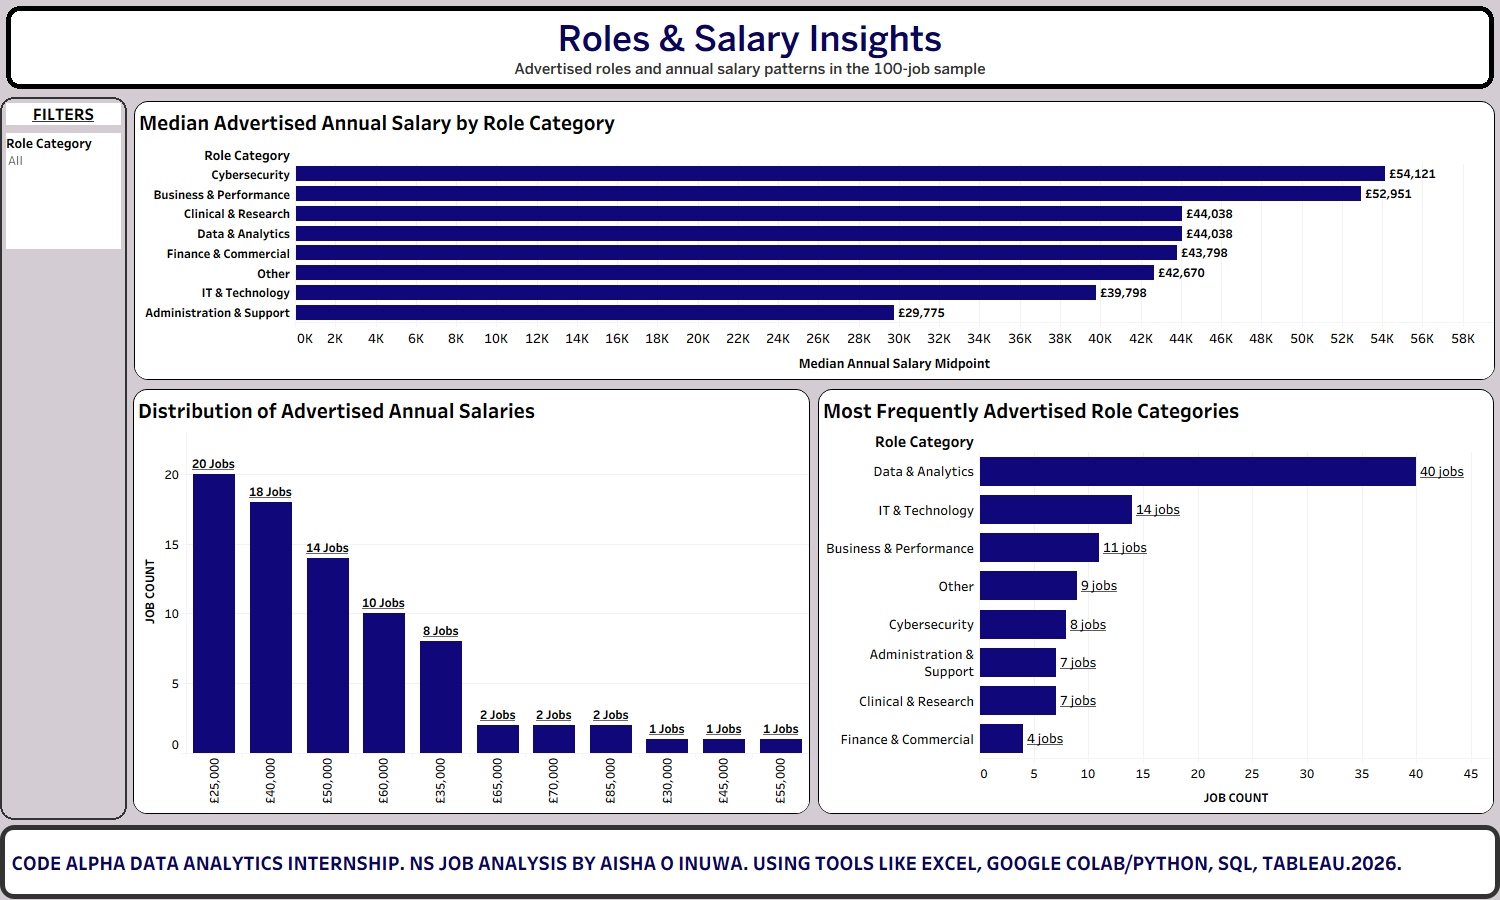

The page's visual inventory and layout, read from the dashboard file:
{"tool":"tableau","page":{"name":"02 - Roles & Salary Insights","canvas":[1500,900],"ordinal":1},"visuals":[{"type":"text","box":[0,0,1500,95]},{"type":"worksheet","title":"Median Salary by Role","mark":"Automatic","rows":["role_category"],"cols":["annual_salary_midpoint"],"box":[130,97,1369,287]},{"type":"text","box":[2,99,123,30]},{"type":"filter","title":"Median Salary by Role","param":"[federated.1nn643n09ulxx41ei394o1m8o3l9].[none:role_category:nk]","box":[2,129,123,124]},{"type":"worksheet","title":"Annual Salary Distributiont 5","mark":"Automatic","rows":["Annual Salary Midpoint (bin)"],"cols":["job_url"],"box":[129,385,685,433]},{"type":"worksheet","title":"Role Demand","mark":"Automatic","rows":["role_category"],"cols":["job_url"],"box":[814,385,684,433]},{"type":"text","box":[5,830,1490,64]}]}

Visuals, with their boxes in screenshot pixels (x1, y1, x2, y2), scaled from the page's 1500x900 canvas onto the 1500x900 screenshot:
text: 0/0/1499/95
"Median Salary by Role" worksheet: 130/97/1499/384
text: 2/99/125/129
"Median Salary by Role" filter: 2/129/125/253
"Annual Salary Distributiont 5" worksheet: 129/385/814/818
"Role Demand" worksheet: 814/385/1498/818
text: 5/830/1495/894
